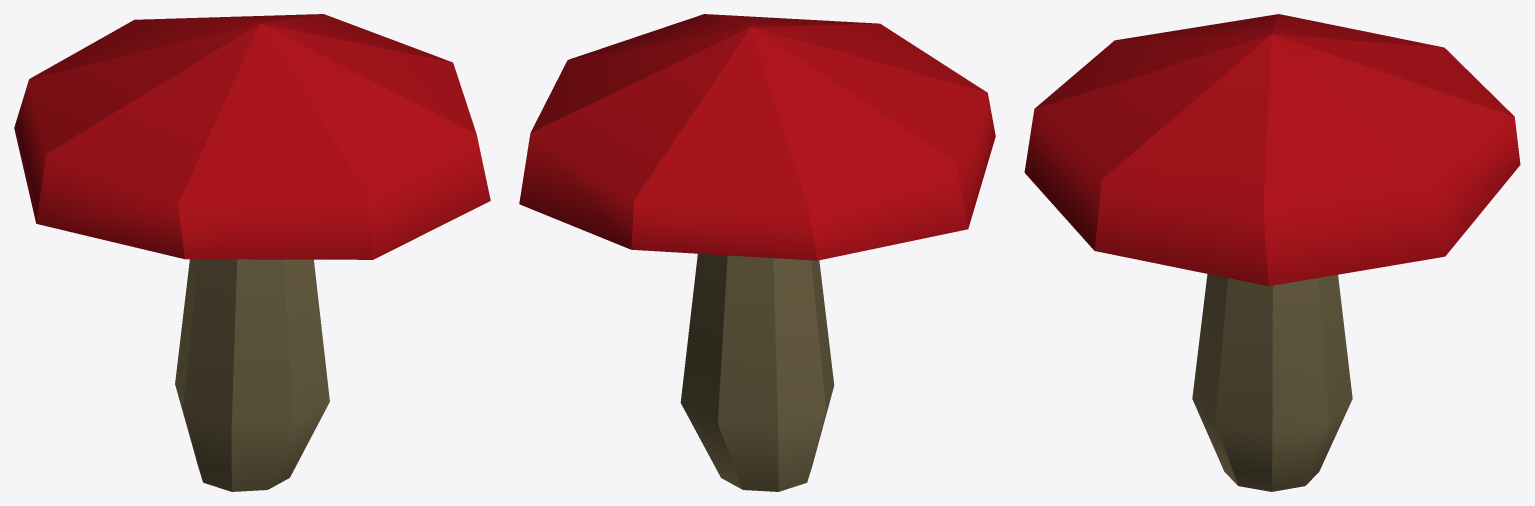
Rendered from red_mushroom.obj.
3 renders of one model, left to right at view 1: azimuth 30°, elevation 25°; view 2: azimuth 150°, elevation 25°; view 3: azimuth 270°, elevation 25°, orthographic.
Visible parts, largest first — view 1: pasted__mushroom3 group; view 2: pasted__mushroom3 group; view 3: pasted__mushroom3 group.
Part boxes in pixels (x1,y1,x2,y2): pasted__mushroom3 group: (14,14,490,491); pasted__mushroom3 group: (519,14,995,491); pasted__mushroom3 group: (1024,14,1520,491).
Bounding box in the file's own units: 0.7226 × 0.7334 × 0.7403.
